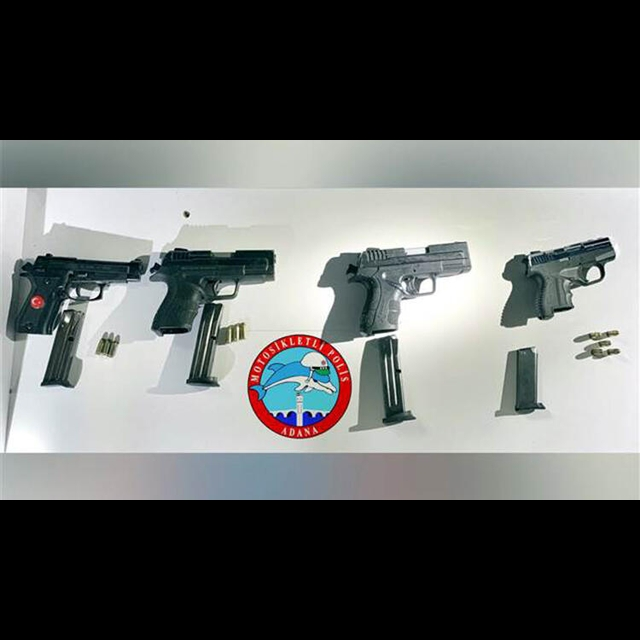SILAH: (341, 231, 475, 335), (143, 239, 280, 335), (12, 246, 145, 337), (511, 225, 619, 320)
